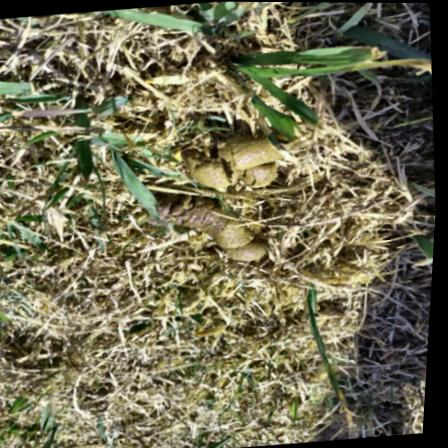dog-poop: (149, 190, 278, 283), (176, 136, 293, 193)
